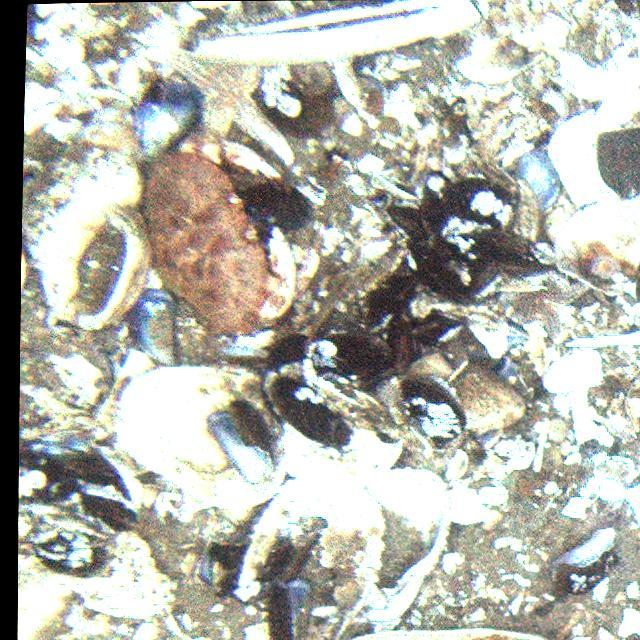crab: (147, 128, 308, 330)
